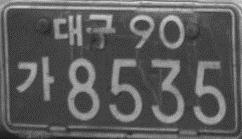0: (158, 13, 186, 49)
3: (148, 56, 184, 123)
5: (108, 56, 143, 123), (192, 59, 226, 125)
8: (67, 56, 100, 121)
9: (127, 13, 157, 51)
가: (14, 55, 55, 103)
대구_O: (51, 13, 116, 49)
